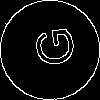G: (25, 25, 76, 71)
